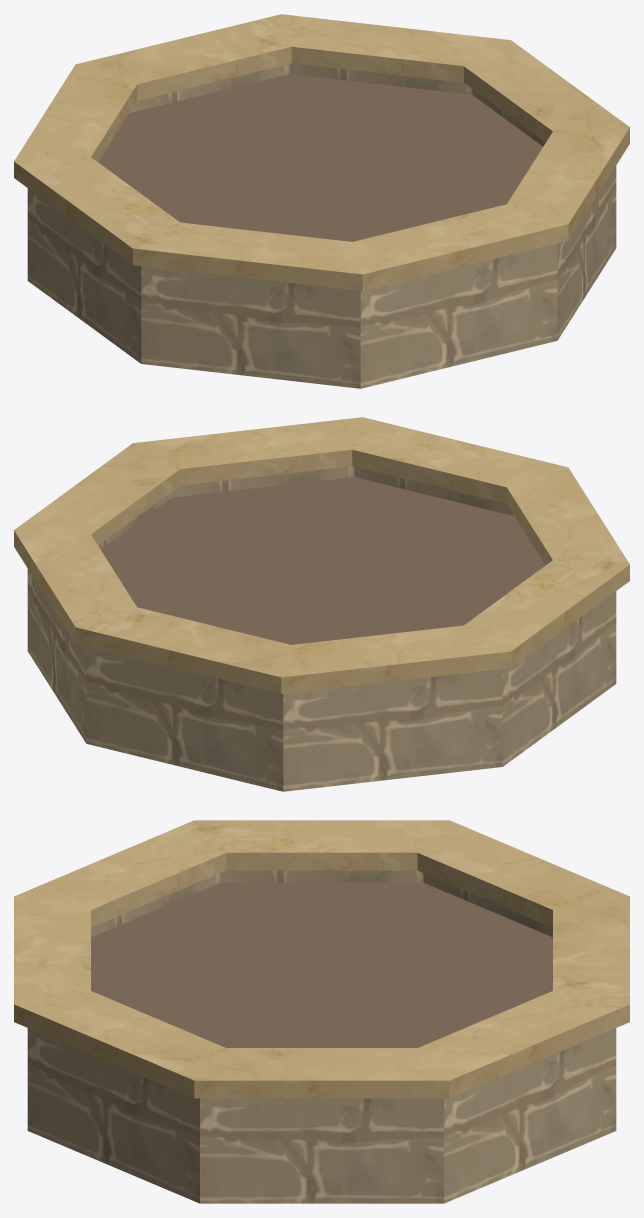
Rendered from planter.gltf.
3 views of the same model, one above another, from view 1: azimuth 30°, elevation 25°; view 2: azimuth 150°, elevation 25°; view 3: azimuth 270°, elevation 25° (orthographic). The views are drawn at different scales.
Parts seen in each view (by area): view 1: PlanterCathedralTrim, PlanterCathedralStone, PlanterSoil; view 2: PlanterCathedralTrim, PlanterCathedralStone, PlanterSoil; view 3: PlanterCathedralTrim, PlanterCathedralStone, PlanterSoil.
Boxes of the visible parts, <box> form: PlanterCathedralTrim: <box>14,14,629,290</box>; PlanterCathedralStone: <box>27,63,616,388</box>; PlanterSoil: <box>98,74,542,241</box>; PlanterCathedralTrim: <box>14,417,629,693</box>; PlanterCathedralStone: <box>27,466,616,791</box>; PlanterSoil: <box>101,477,545,644</box>; PlanterCathedralTrim: <box>14,820,629,1098</box>; PlanterCathedralStone: <box>27,870,616,1203</box>; PlanterSoil: <box>91,882,552,1047</box>.
Size of what is drawn, in the model's own units: 2.51 by 0.58 by 2.51.
Materials: 3 (2 with a texture image).
